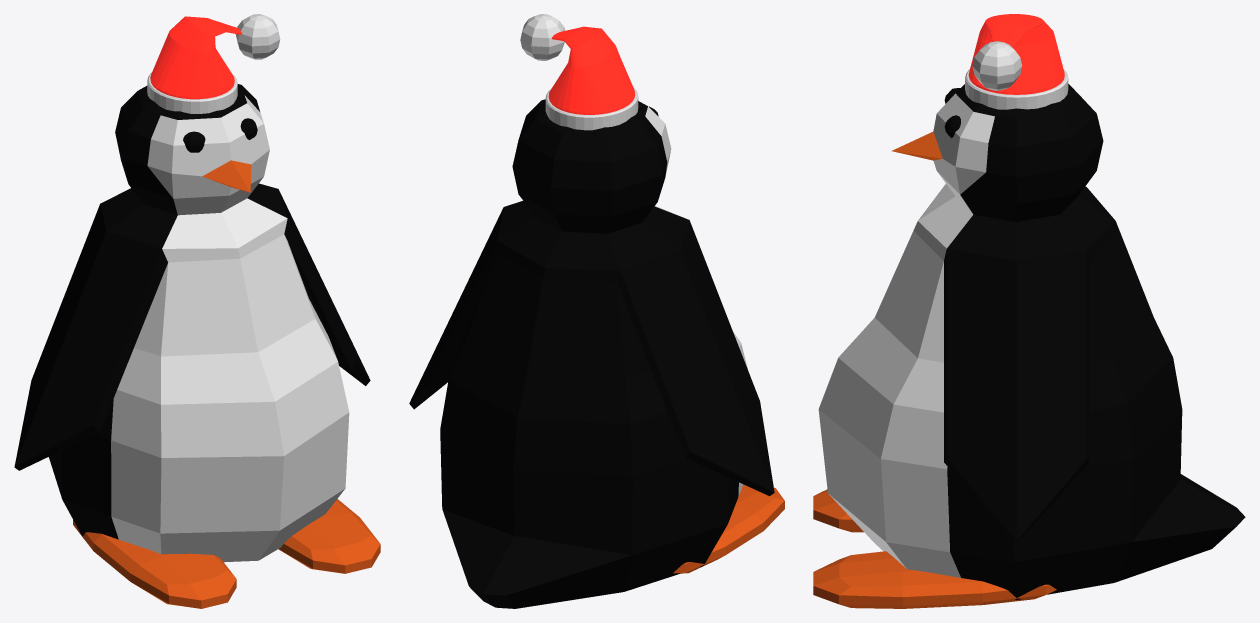
File: pingvin.fbx
3 views of the same model, side by side, from view 1: azimuth 30°, elevation 25°; view 2: azimuth 150°, elevation 25°; view 3: azimuth 270°, elevation 25° (orthographic). The views are drawn at different scales.
Visible parts, largest first — view 1: пингвин; view 2: пингвин; view 3: пингвин.
Part boxes in pixels (x1,y1,x2,y2): пингвин: (14,14,380,608); пингвин: (409,14,784,608); пингвин: (813,14,1245,608).
Size of the model in its own units: 84.48 by 116 by 82.12.
